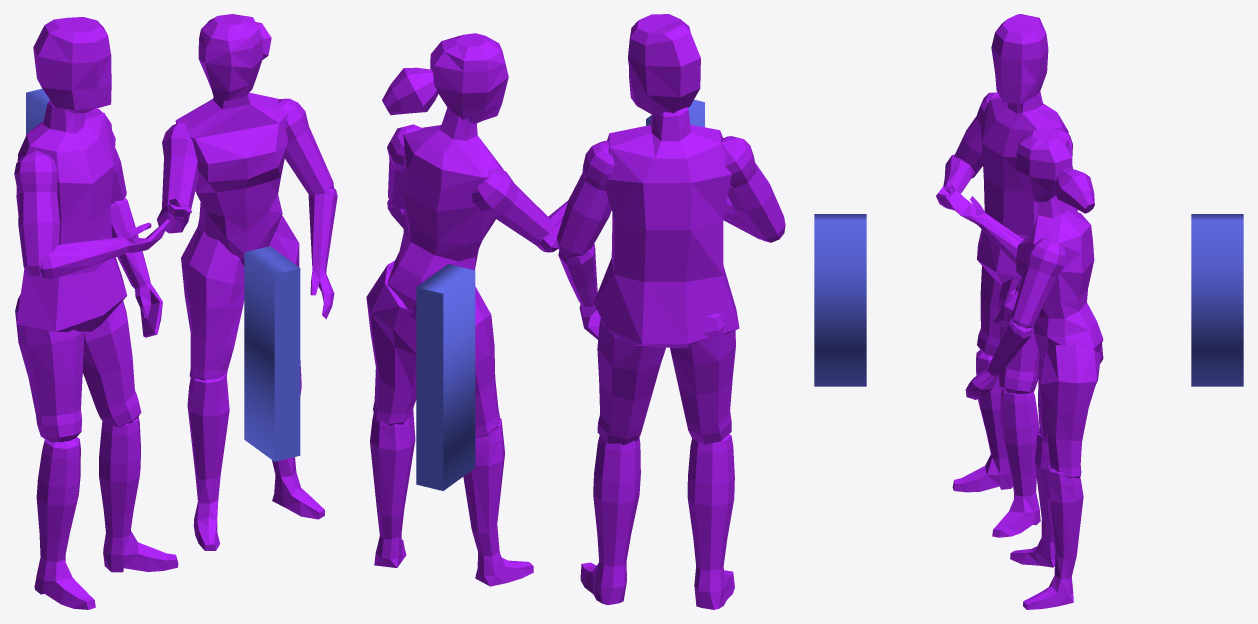
File: number1.glb
3 renders of one model, left to right at view 1: azimuth 30°, elevation 25°; view 2: azimuth 150°, elevation 25°; view 3: azimuth 270°, elevation 25°, orthographic. The views are drawn at different scales.
Parts seen in each view (by area): view 1: group2096096100, Text.002, Text.008; view 2: group2096096100, Text.008; view 3: group2096096100, Text.002, Text.008.
Boxes of the visible parts, <box> form: group2096096100: <box>14,14,337,609</box>; Text.002: <box>244,246,300,461</box>; Text.008: <box>26,88,49,135</box>; group2096096100: <box>366,14,785,609</box>; Text.008: <box>416,264,475,490</box>; group2096096100: <box>936,14,1103,609</box>; Text.002: <box>814,214,866,386</box>; Text.008: <box>1191,214,1243,386</box>.
Bounding box in the file's own units: 2.44 × 3.82 × 3.08.
